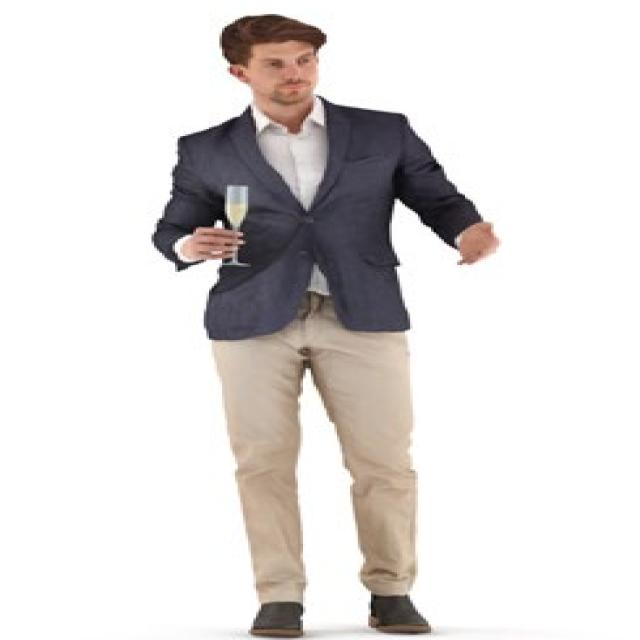standing: (138, 12, 496, 640)
